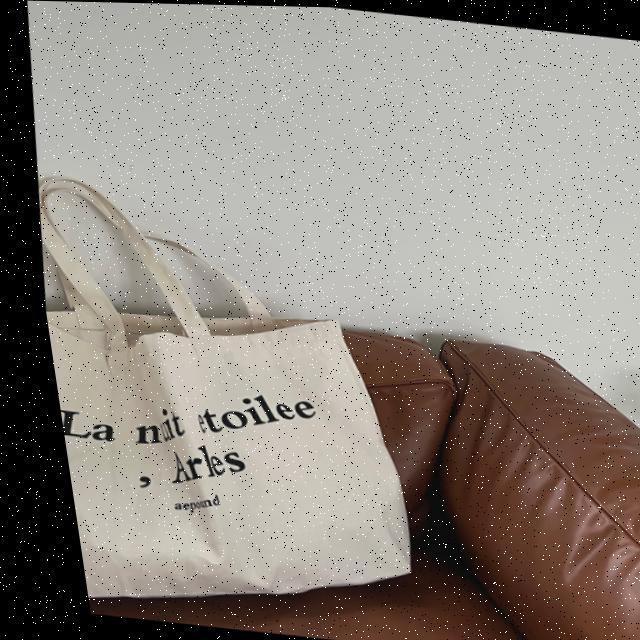ecobag: (19, 165, 457, 640)
